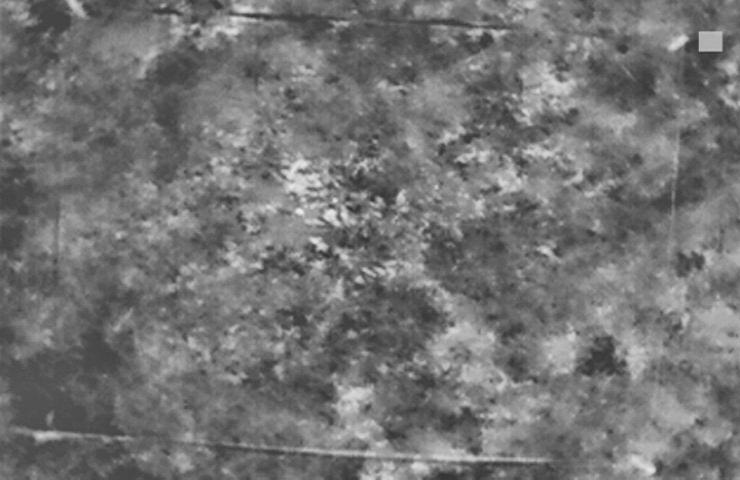landmines: (283, 153, 343, 212)
